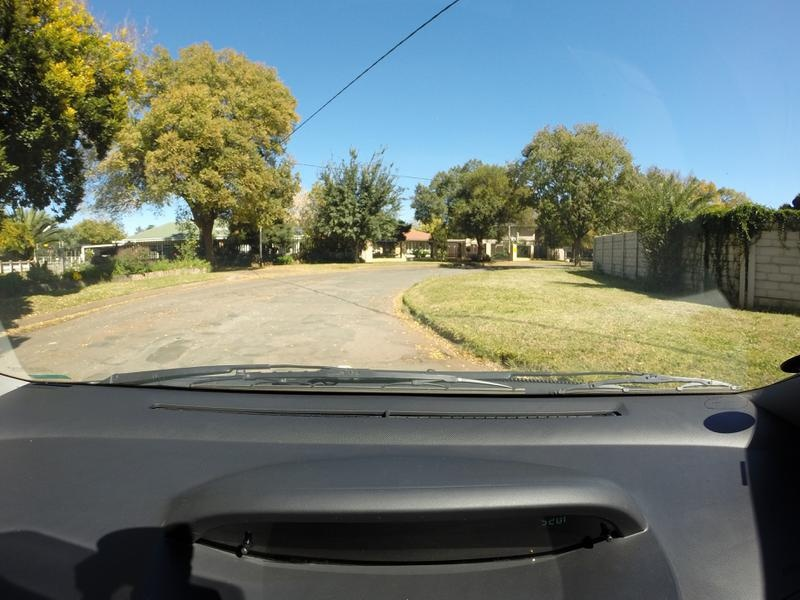pothole: (402, 346, 451, 363)
